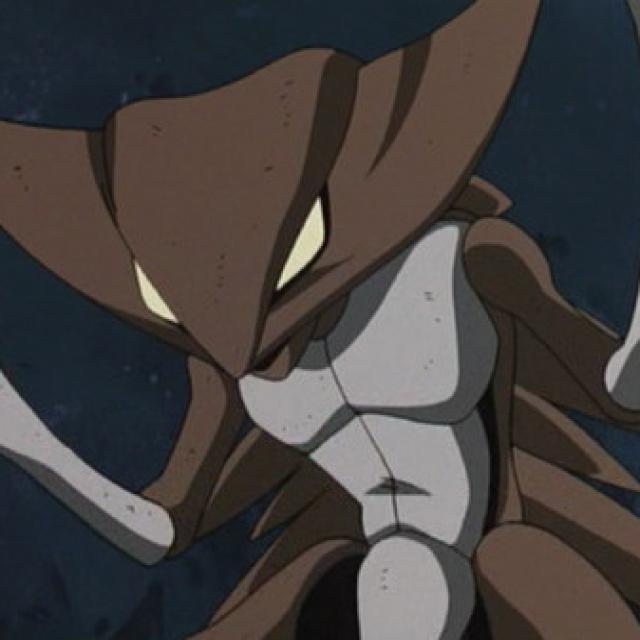Kabutops: (0, 28, 640, 640)
